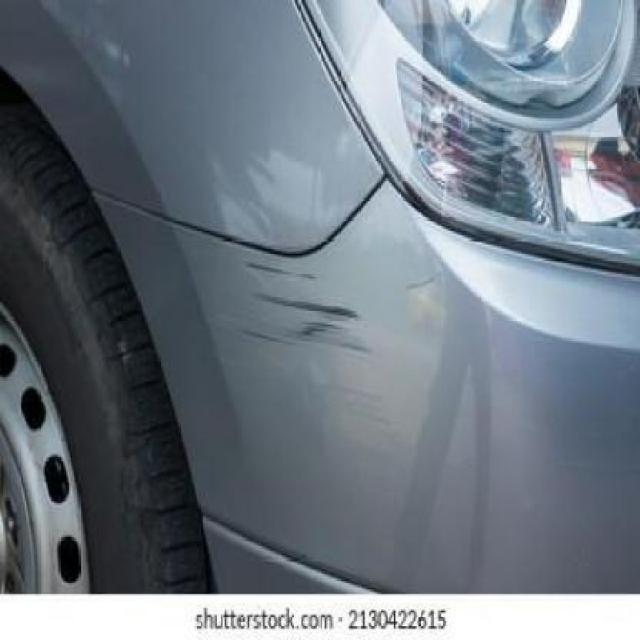scratch: (227, 252, 390, 406)
